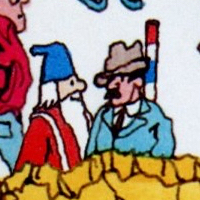wb: (38, 39, 87, 111)
